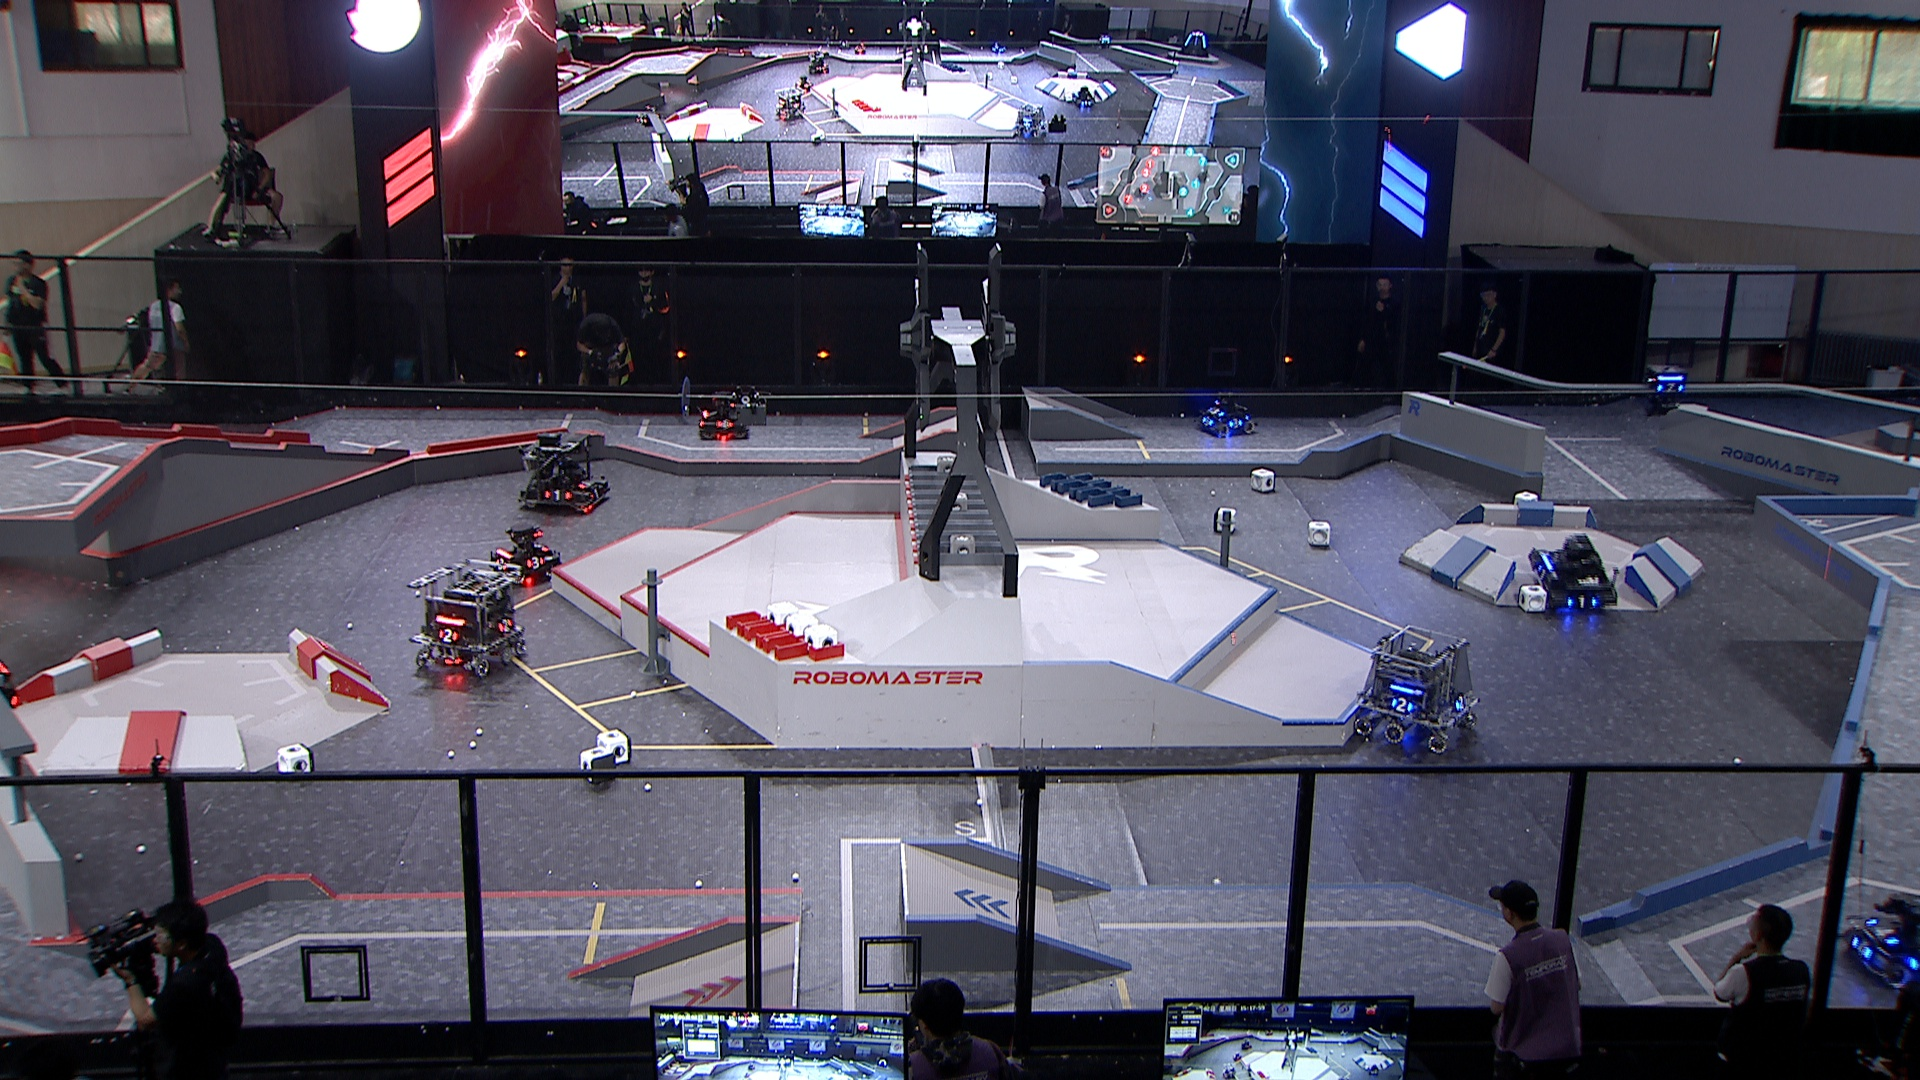armor: (1863, 916, 1899, 945), (1847, 938, 1875, 959), (1564, 595, 1600, 608), (1389, 698, 1415, 713), (543, 487, 571, 501), (1656, 382, 1687, 396), (1534, 562, 1551, 584), (495, 616, 516, 633), (438, 628, 458, 645), (575, 476, 596, 491), (713, 418, 735, 431), (1453, 694, 1466, 713), (588, 485, 604, 501), (524, 556, 543, 568), (533, 541, 551, 553), (1205, 405, 1224, 417), (1229, 418, 1245, 431), (1201, 415, 1215, 427)
car: (1352, 622, 1477, 757), (406, 559, 527, 678), (517, 431, 612, 518), (1840, 889, 1920, 988), (1528, 531, 1621, 615), (487, 522, 560, 584), (1195, 392, 1258, 439), (698, 398, 750, 438)
ignore: (773, 86, 807, 124), (1015, 104, 1048, 142), (1176, 32, 1211, 62), (1068, 84, 1098, 109), (806, 47, 829, 76)
watcher: (1640, 360, 1691, 419)
